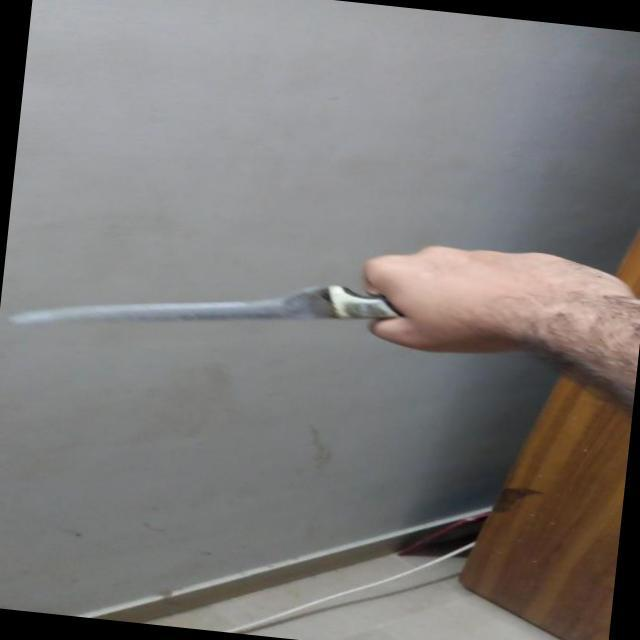Knife: (0, 247, 449, 378)
